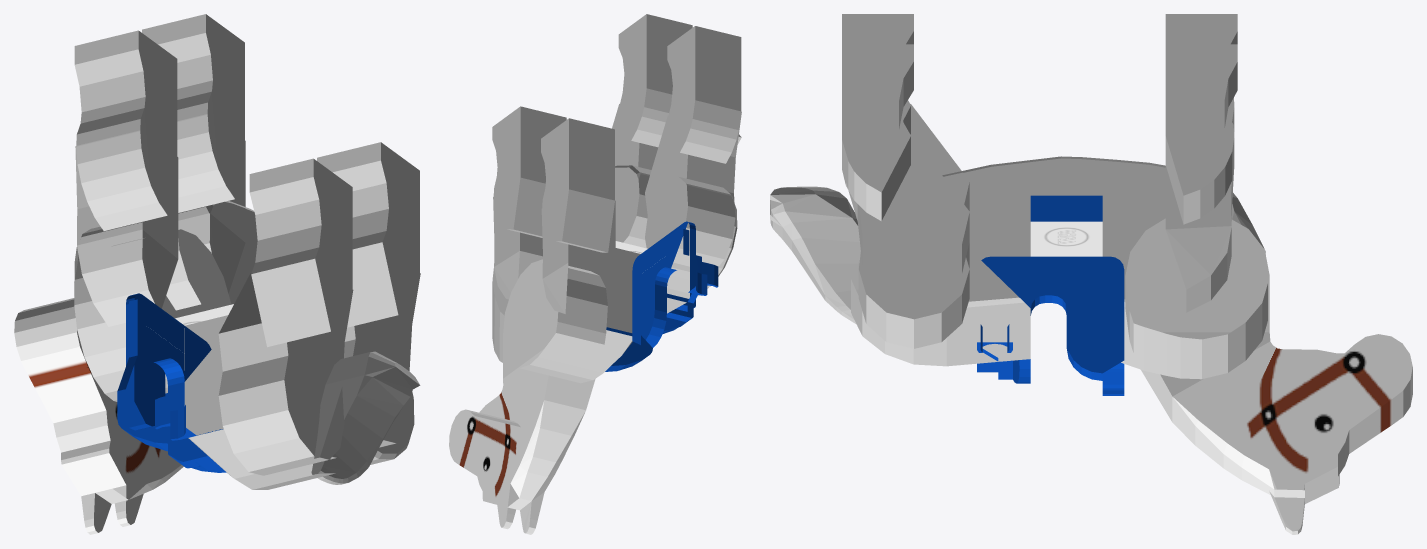
3 renders of one model, left to right at view 1: azimuth 30°, elevation 25°; view 2: azimuth 150°, elevation 25°; view 3: azimuth 270°, elevation 25°, orthographic. The views are drawn at different scales.
Parts seen in each view (by area): view 1: 012_shape3, 040_shape14, 019_shape8, 031_shape12, 028_shape10, 025_shape8, 037_shape12, 016_shape6, 043_shape16, 022_shape6, 034_shape10; view 2: 040_shape14, 012_shape3, 028_shape10, 019_shape8, 031_shape12, 025_shape8, 037_shape12, 034_shape10, 016_shape6, 022_shape6; view 3: 012_shape3, 040_shape14, 034_shape10, 025_shape8, 037_shape12, 043_shape16, 022_shape6, 031_shape12, 019_shape8, 028_shape10.
Boxes of the visible parts, left/top/right/bottom form: 012_shape3: left=74, top=201, right=414, bottom=489; 040_shape14: left=14, top=229, right=231, bottom=534; 019_shape8: left=74, top=30, right=177, bottom=230; 031_shape12: left=249, top=158, right=352, bottom=347; 028_shape10: left=218, top=273, right=353, bottom=475; 025_shape8: left=142, top=14, right=244, bottom=212; 037_shape12: left=317, top=142, right=419, bottom=327; 016_shape6: left=75, top=130, right=178, bottom=326; 043_shape16: left=311, top=351, right=420, bottom=484; 022_shape6: left=166, top=114, right=245, bottom=310; 034_shape10: left=330, top=273, right=420, bottom=459; 040_shape14: left=449, top=259, right=607, bottom=534; 012_shape3: left=492, top=165, right=737, bottom=383; 028_shape10: left=645, top=100, right=741, bottom=271; 019_shape8: left=541, top=118, right=614, bottom=252; 031_shape12: left=667, top=26, right=741, bottom=163; 025_shape8: left=492, top=106, right=566, bottom=237; 037_shape12: left=618, top=14, right=692, bottom=147; 034_shape10: left=612, top=88, right=671, bottom=248; 016_shape6: left=541, top=200, right=615, bottom=313; 022_shape6: left=493, top=197, right=542, bottom=299; 012_shape3: left=851, top=156, right=1267, bottom=395; 040_shape14: left=1125, top=218, right=1412, bottom=534; 034_shape10: left=842, top=134, right=969, bottom=348; 025_shape8: left=1165, top=44, right=1237, bottom=224; 037_shape12: left=842, top=44, right=913, bottom=220; 043_shape16: left=770, top=186, right=860, bottom=324; 022_shape6: left=1165, top=165, right=1234, bottom=312; 031_shape12: left=842, top=14, right=913, bottom=134; 019_shape8: left=1165, top=14, right=1237, bottom=131; 028_shape10: left=858, top=104, right=969, bottom=268.
Bounding box in the file's own units: 2.56 × 5.92 × 7.15.
4 materials, 2 textured.
